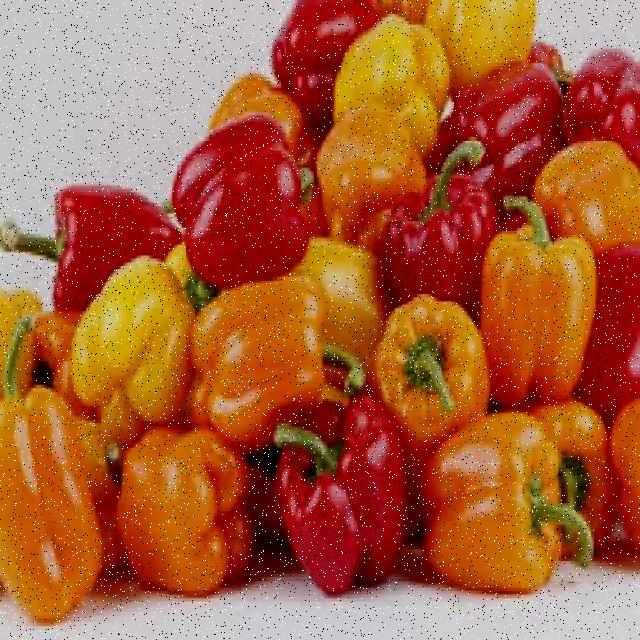Bell Pepper: (257, 362, 412, 621), (131, 100, 324, 306), (422, 394, 598, 618)
